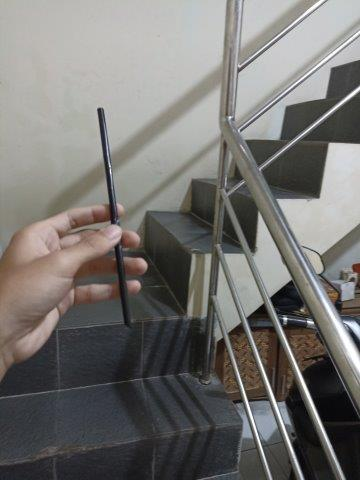sedotan: (97, 108, 133, 326)
